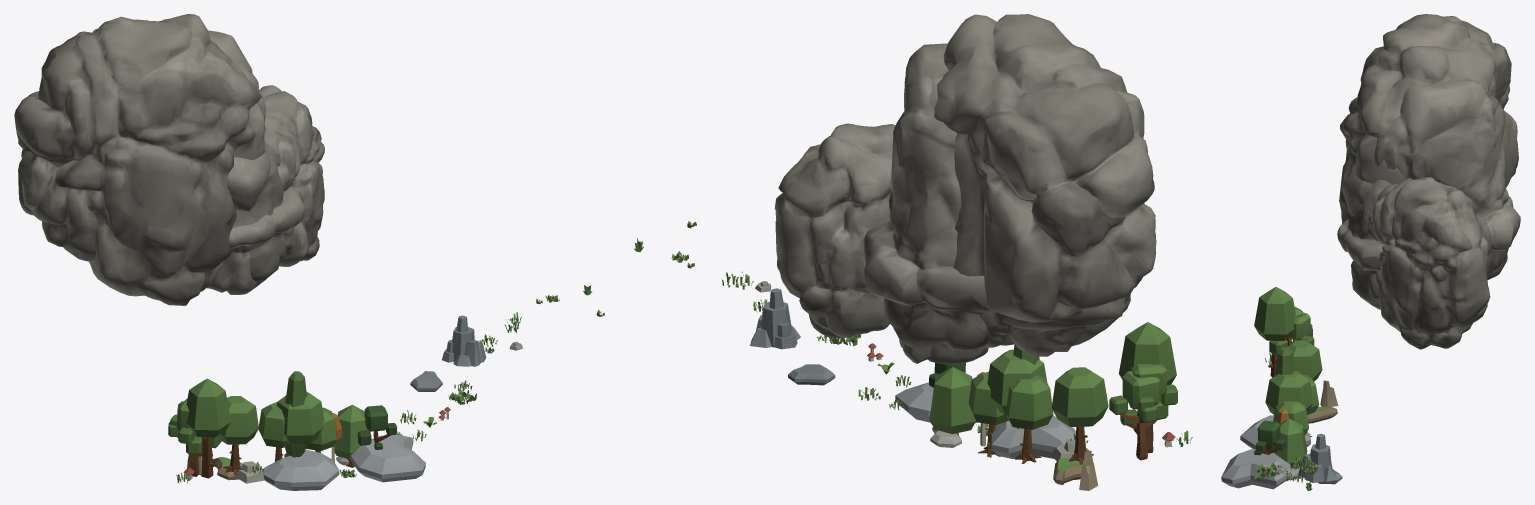
File: cell_x0_z-3_render.gltf
3 views of the same model, side by side, from view 1: azimuth 30°, elevation 25°; view 2: azimuth 150°, elevation 25°; view 3: azimuth 270°, elevation 25° (orthographic). The views are drawn at different scales.
Parts seen in each view (by area): view 1: cell_x0_z-3; view 2: cell_x0_z-3; view 3: cell_x0_z-3.
Part boxes in pixels (x1,y1,x2,y2): cell_x0_z-3: (14,14,604,490); cell_x0_z-3: (634,14,1192,490); cell_x0_z-3: (1221,14,1520,490).
Bounding box in the file's own units: 42.62 × 34.59 × 24.18.
15 materials, 1 textured.
